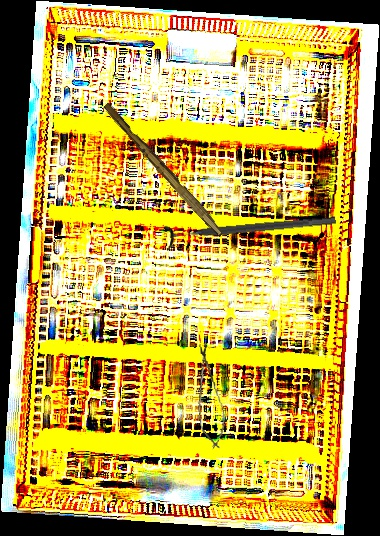Fixation Ring: (164, 207, 337, 252)
Micro Scissor: (189, 341, 229, 452)
Scalpel Handle: (99, 101, 229, 238)
